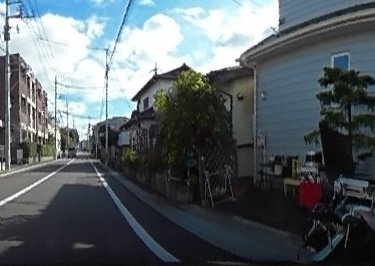person: (352, 65, 375, 253)
